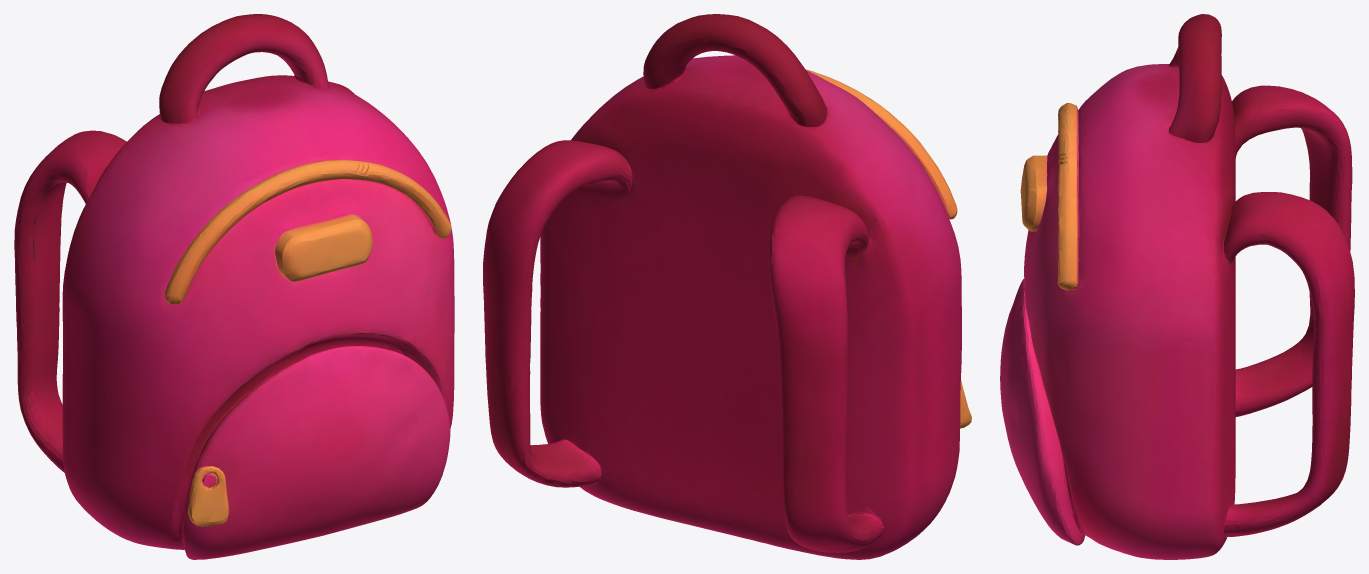
File: backpack.glb
3 renders of one model, left to right at view 1: azimuth 30°, elevation 25°; view 2: azimuth 150°, elevation 25°; view 3: azimuth 270°, elevation 25°, orthographic. The views are drawn at different scales.
Visible parts, largest first — view 1: model; view 2: model; view 3: model.
Boxes of the visible parts, x1,y1,x2,y2 form: model: [14, 14, 454, 559]; model: [483, 14, 971, 559]; model: [1000, 14, 1354, 559].
Size of the model in its own units: 0.7801 by 1 by 0.6781.
Materials: 1 (1 with a texture image).
